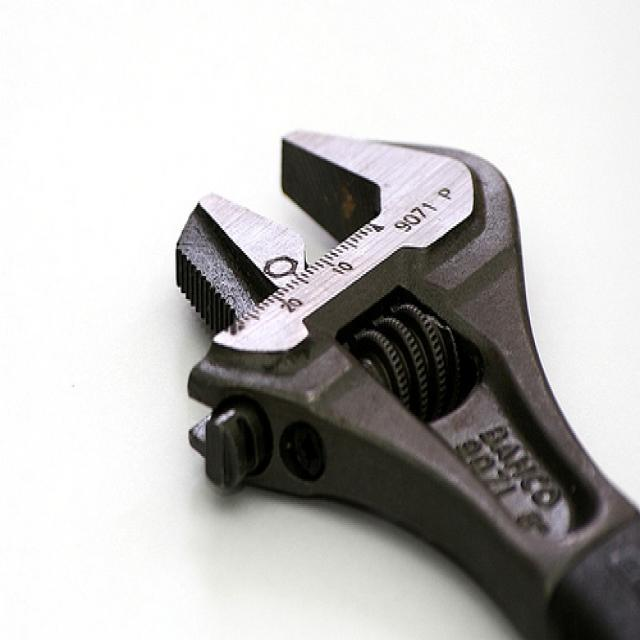wrench: (160, 101, 640, 640)
